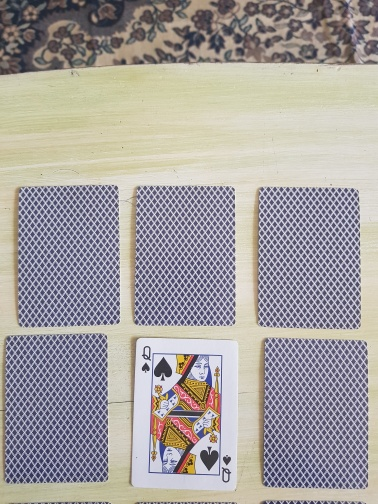queen: (129, 336, 241, 492)
